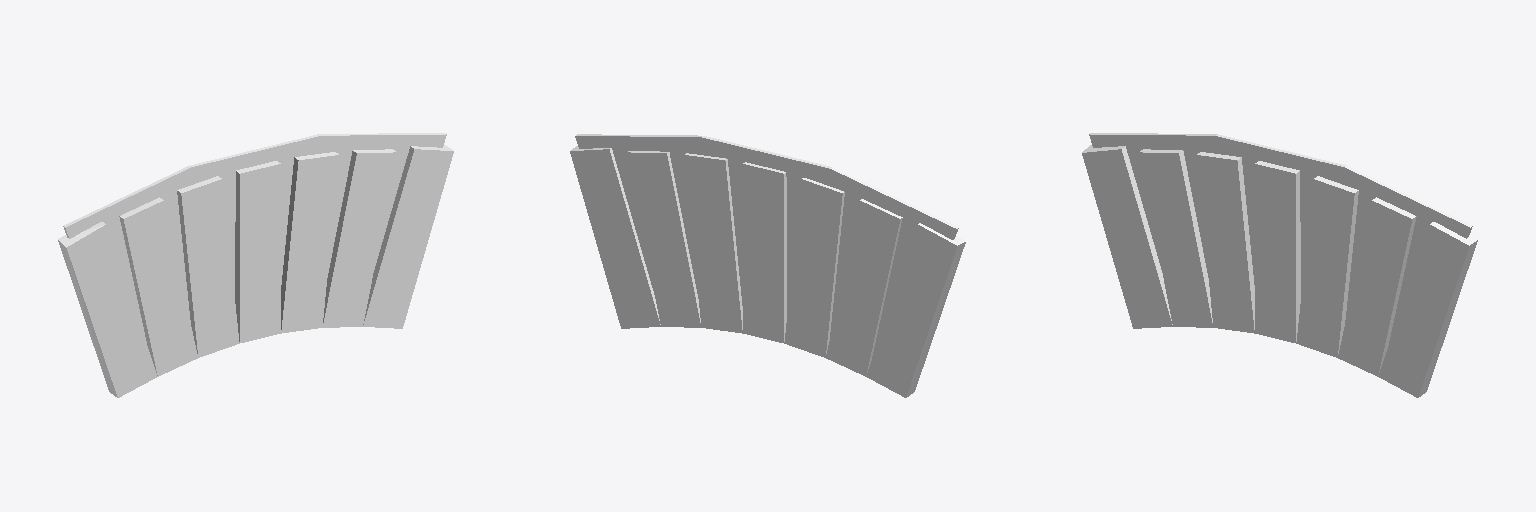
File: lime_mortar_orange_clay_brick_facade_round_arch_3_middle.obj
The picture shows the model from 3 angles: view 1: azimuth 30°, elevation 25°; view 2: azimuth 150°, elevation 25°; view 3: azimuth 330°, elevation 25°; orthographic projection.
Parts seen in each view (by area): view 1: bricks_selection, mortar_selection; view 2: bricks_selection, mortar_selection; view 3: bricks_selection, mortar_selection.
Part boxes in pixels (x1,y1,x2,y2): bricks_selection: (58,145,453,397); mortar_selection: (63,133,446,342); bricks_selection: (570,146,965,397); mortar_selection: (575,134,958,357); bricks_selection: (1082,145,1477,397); mortar_selection: (1089,133,1472,342).
Bounding box in the file's own units: 1.42 × 0.7336 × 0.0562.